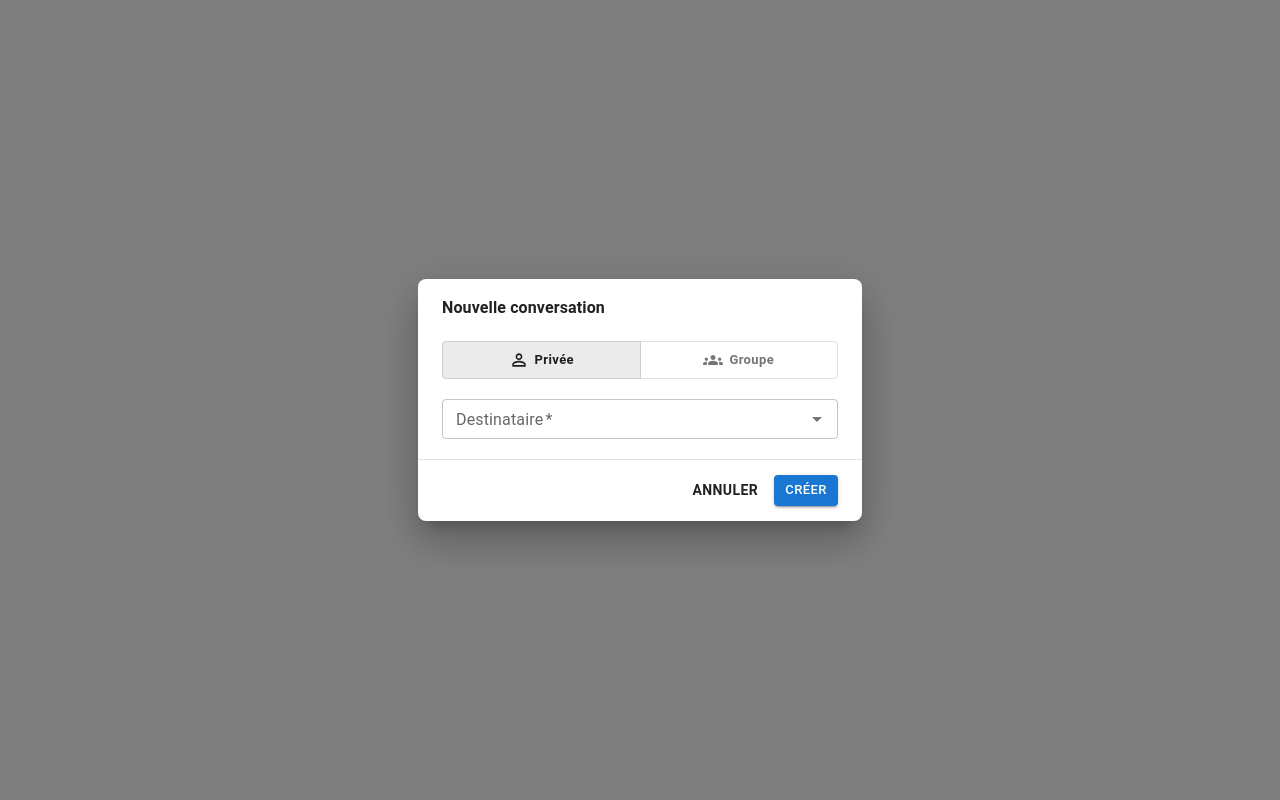
Scenario: NewConversationDialog › privée : bloque la soumission sans destinataire (validation zod FR)
The width and height of the screenshot is (1280, 800).
Click the button "Créer" at (806, 491), box left=774, top=475, right=838, bottom=506
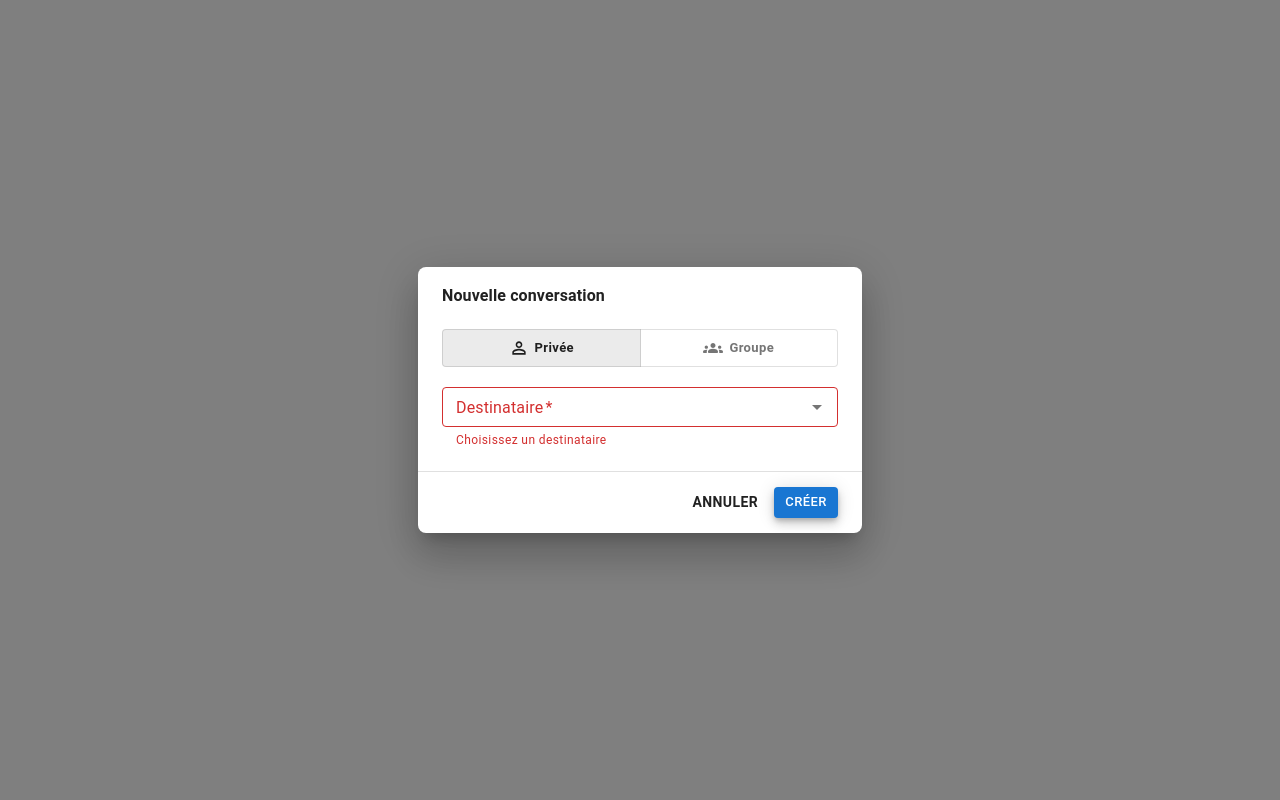
Expected: the text "Choisissez un destinataire" is shown, left=456, top=434, right=607, bottom=448
